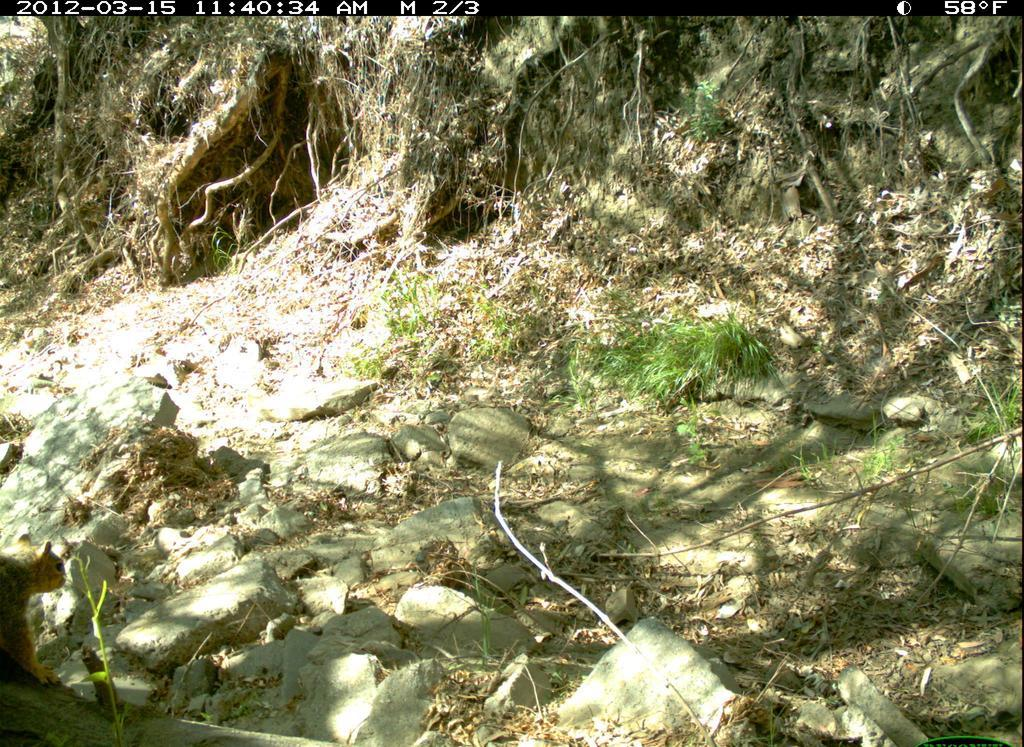squirrel: (1, 530, 80, 697)
